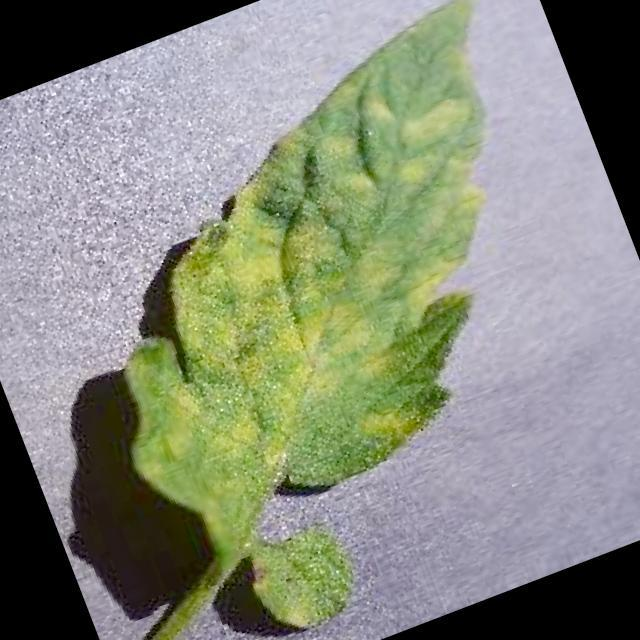Tomato mold leaf: (14, 0, 628, 578)
